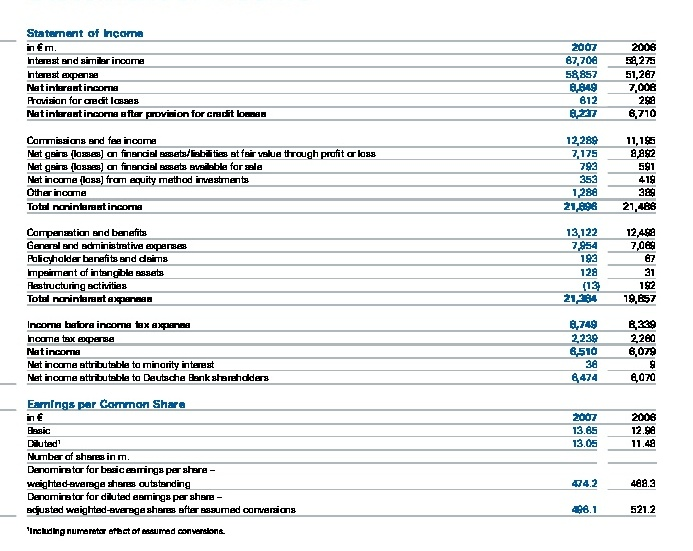table: (0, 0, 693, 551)
